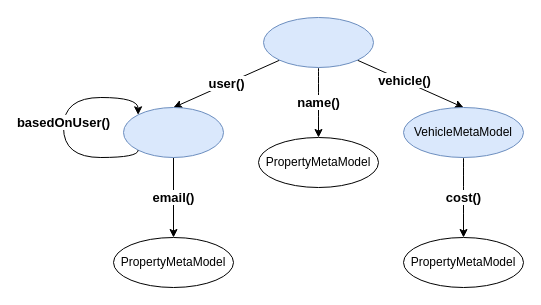
Image size: 541x305. Some labels were removed from this diagram. The box of each missing label's shape, as (x1, y1, x2, y2) in pixels:
PersonMetaModel: (262, 16, 374, 68)
UserMetaModel: (122, 106, 224, 158)
